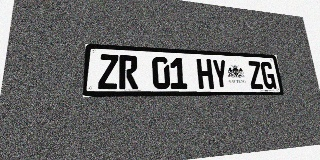0: (152, 56, 170, 89)
1: (169, 57, 187, 89)
G: (260, 61, 277, 89)
H: (196, 58, 214, 89)
R: (119, 55, 138, 89)
Y: (211, 59, 229, 89)
Z: (98, 54, 118, 89), (247, 61, 264, 89)
